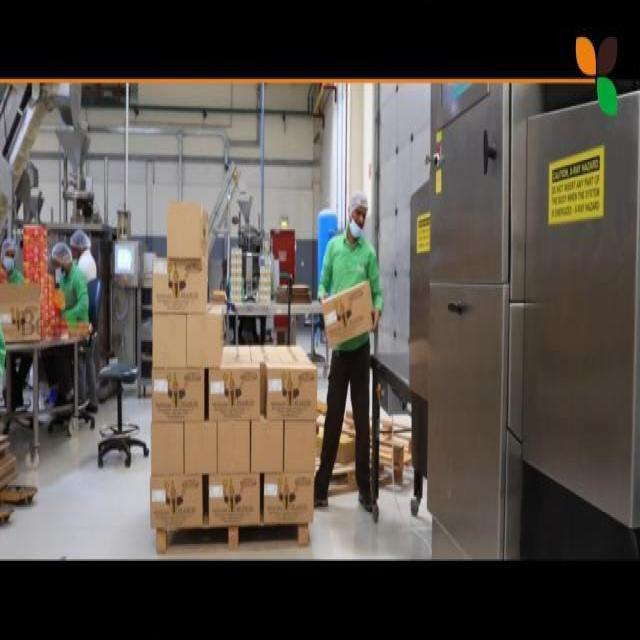bare_hand: (364, 295, 387, 344)
